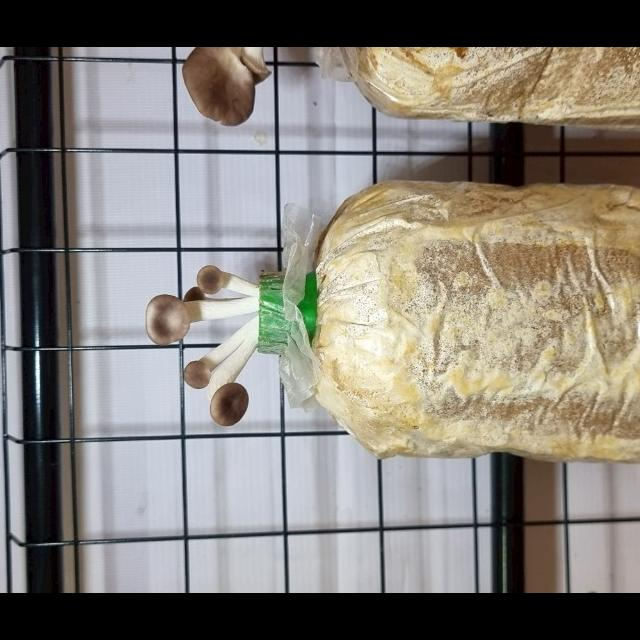normal: (138, 255, 281, 428)
